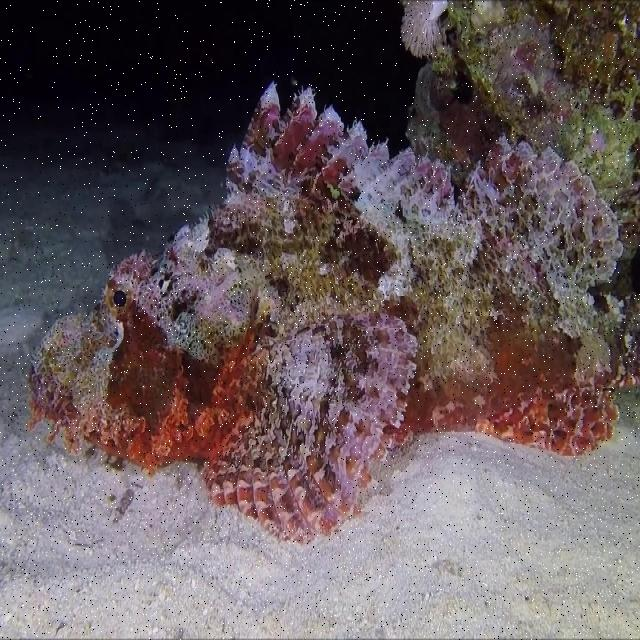fish: (22, 81, 636, 547)
reefs: (401, 0, 639, 387)
